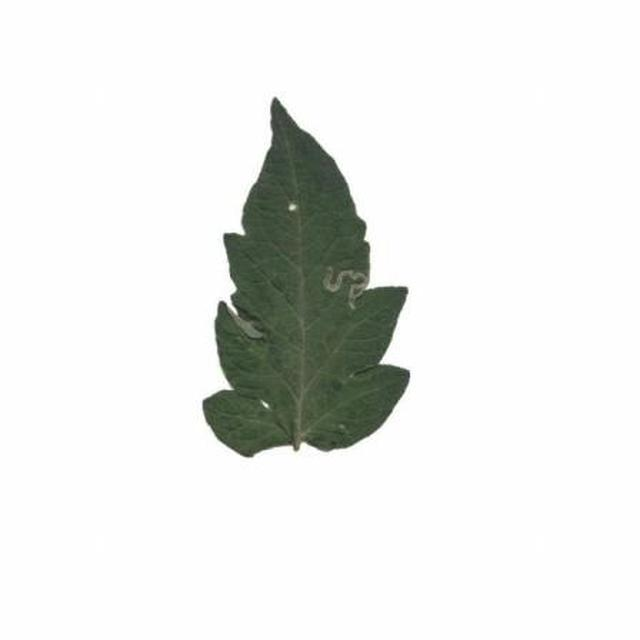Leaf Miner: (290, 131, 587, 640)
